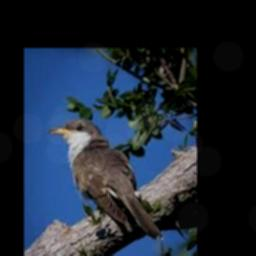Cuckoo: (49, 119, 165, 240)
